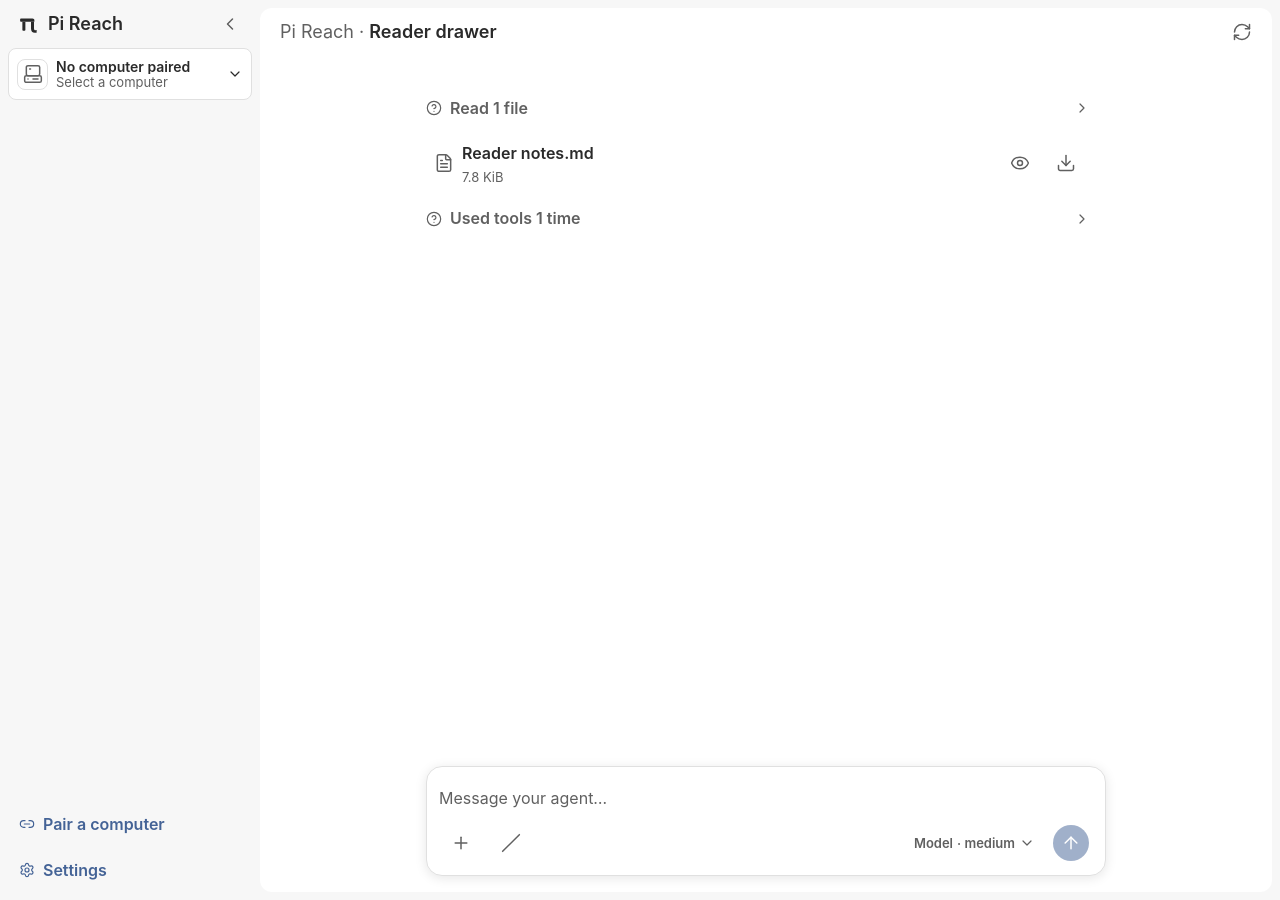
Test: desktop opens the reader as a 720px modal Drawer instead of a second column
Type "Draft before opening" into the text box with placeholder "Message your agent…".
click(766, 799); type("Draft before opening")  # box [439, 777, 1093, 821]
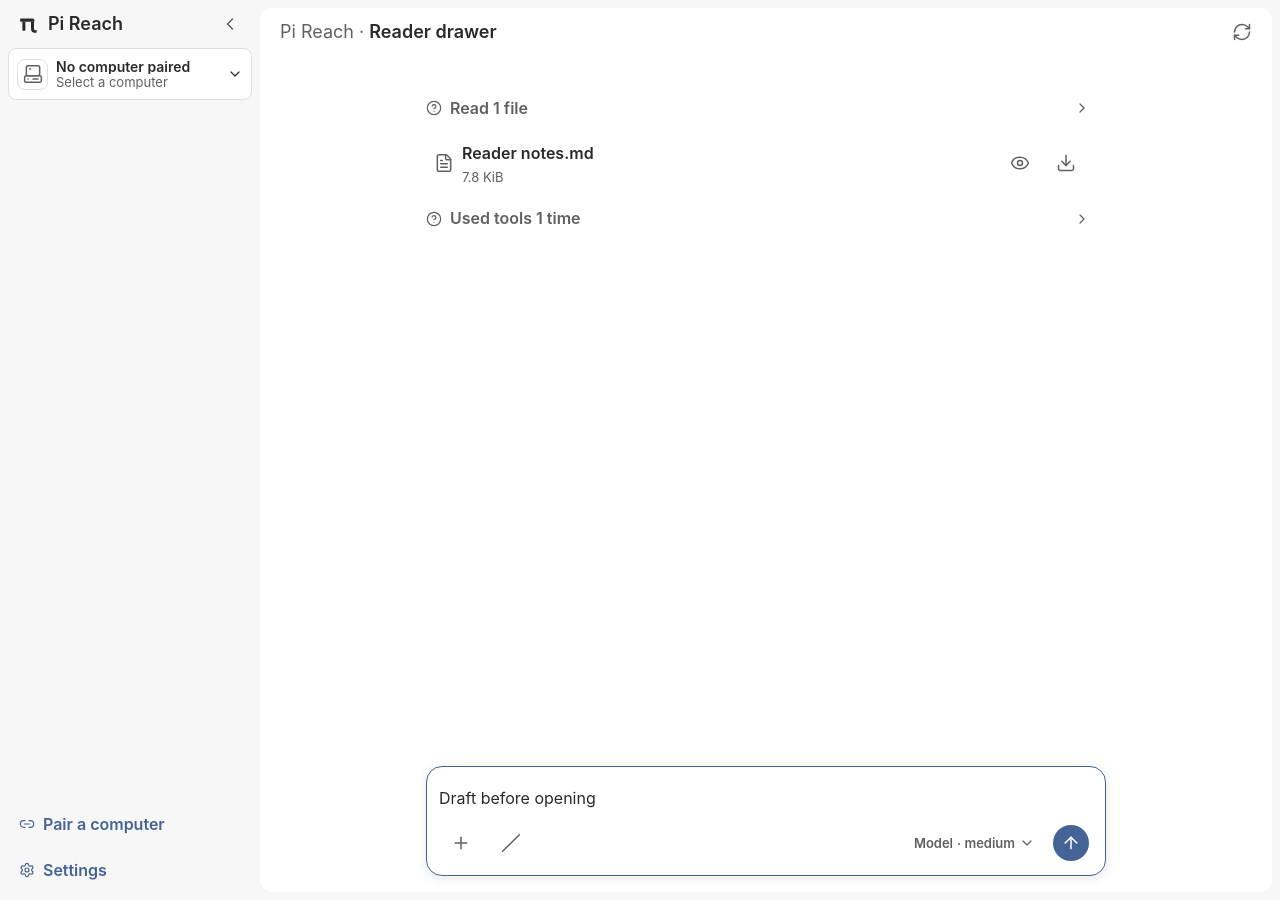
Click the button "Read 1 file".
click(489, 108)  # box [426, 86, 1096, 130]
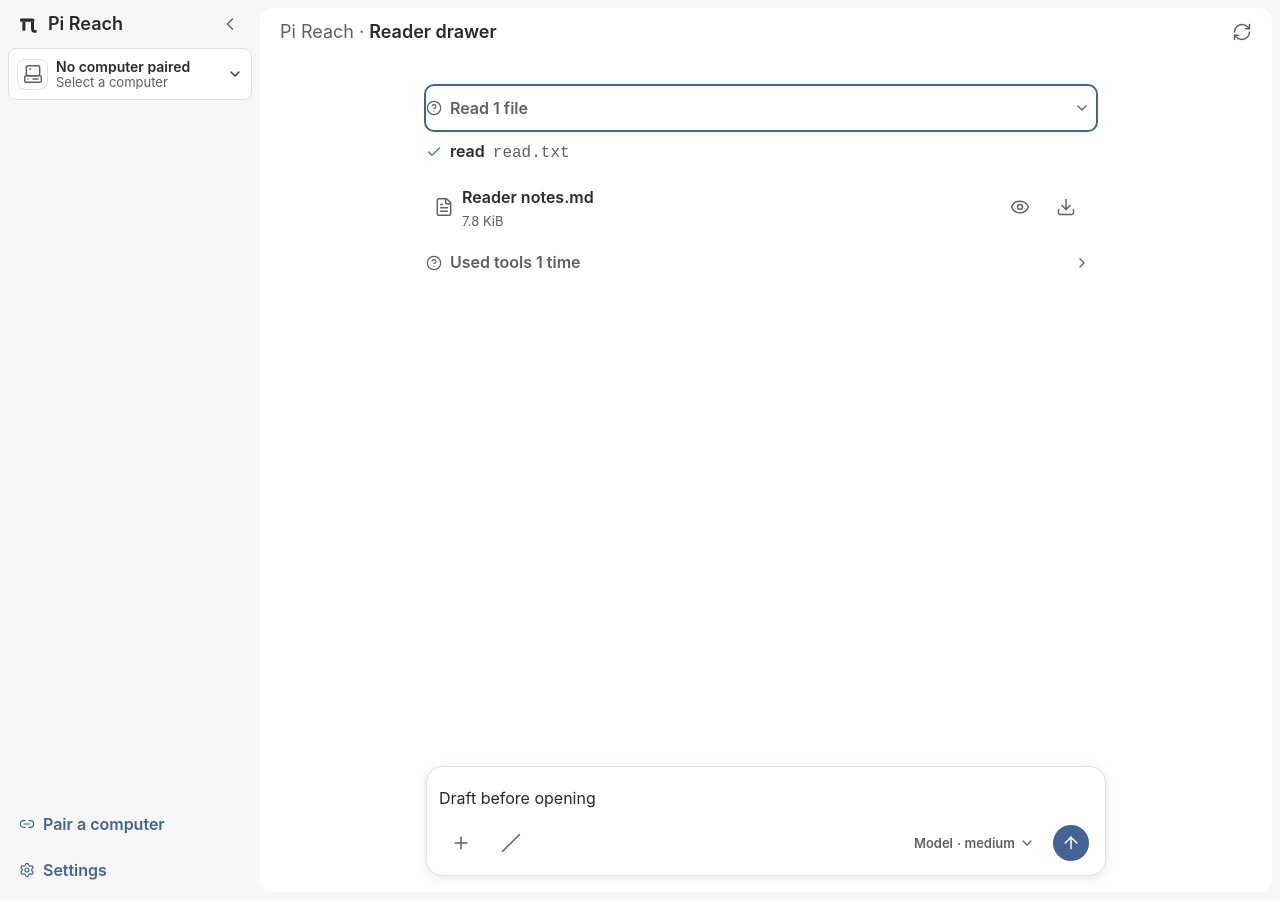
Click the button "Used tools 1 time".
click(515, 262)  # box [426, 241, 1096, 285]
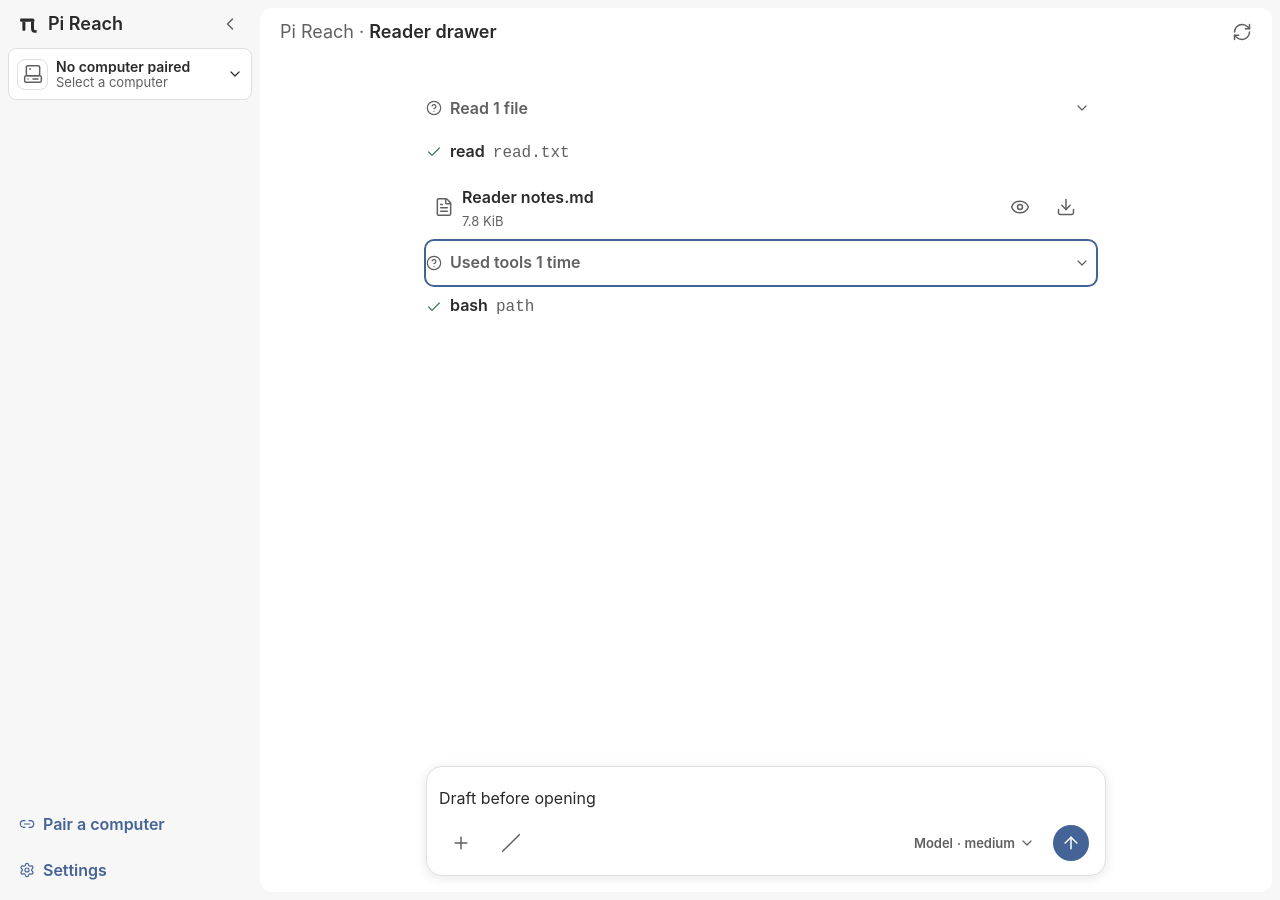
Click the button "read read.txt".
click(467, 151)  # box [426, 130, 1096, 174]
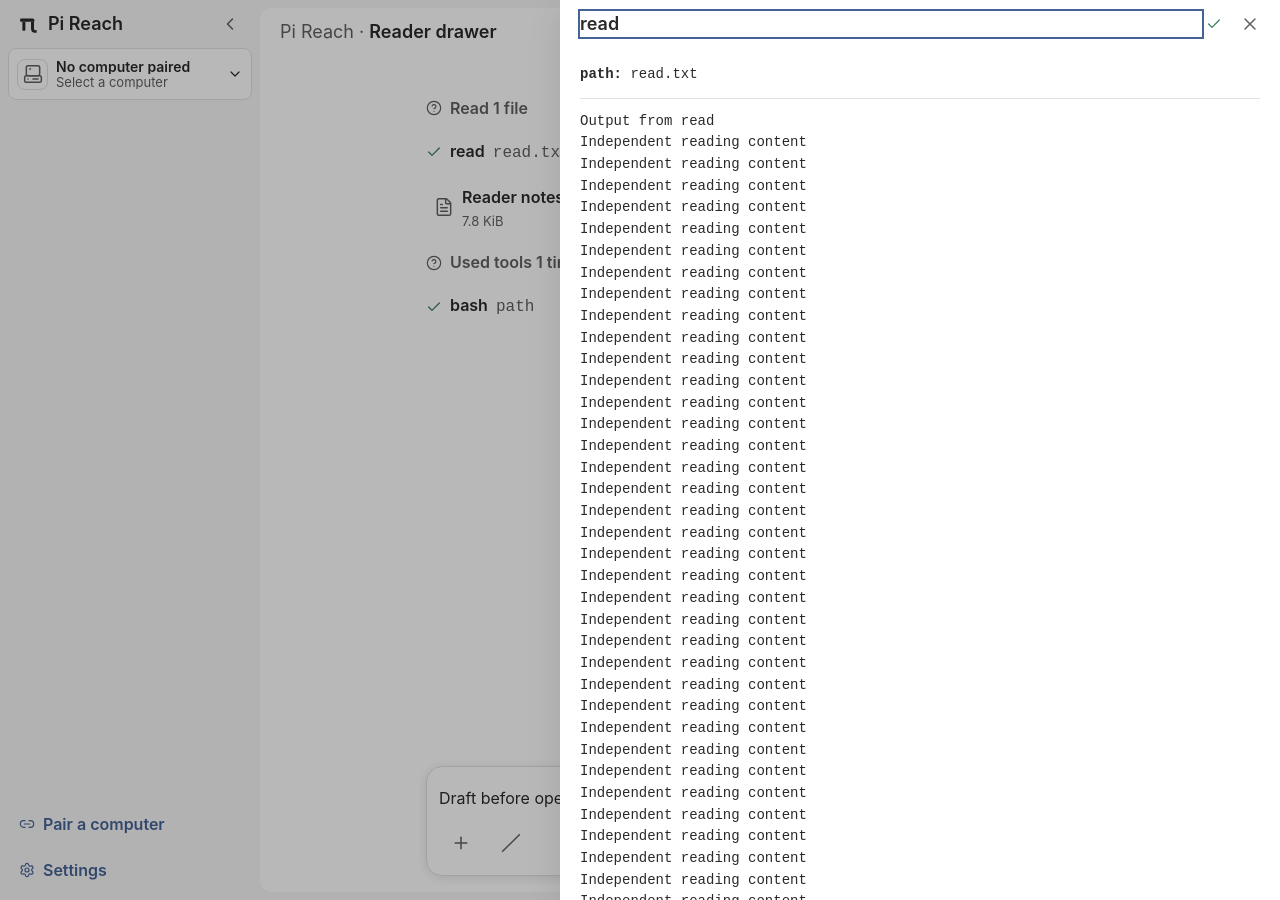
Expected: the element that starts with "path" is shown, [560, 48, 1279, 899]
Expected: the dialog is shown, [560, 0, 1279, 899]
Click the button named "Close tool details".
click(1250, 24)  # box [1228, 2, 1272, 46]
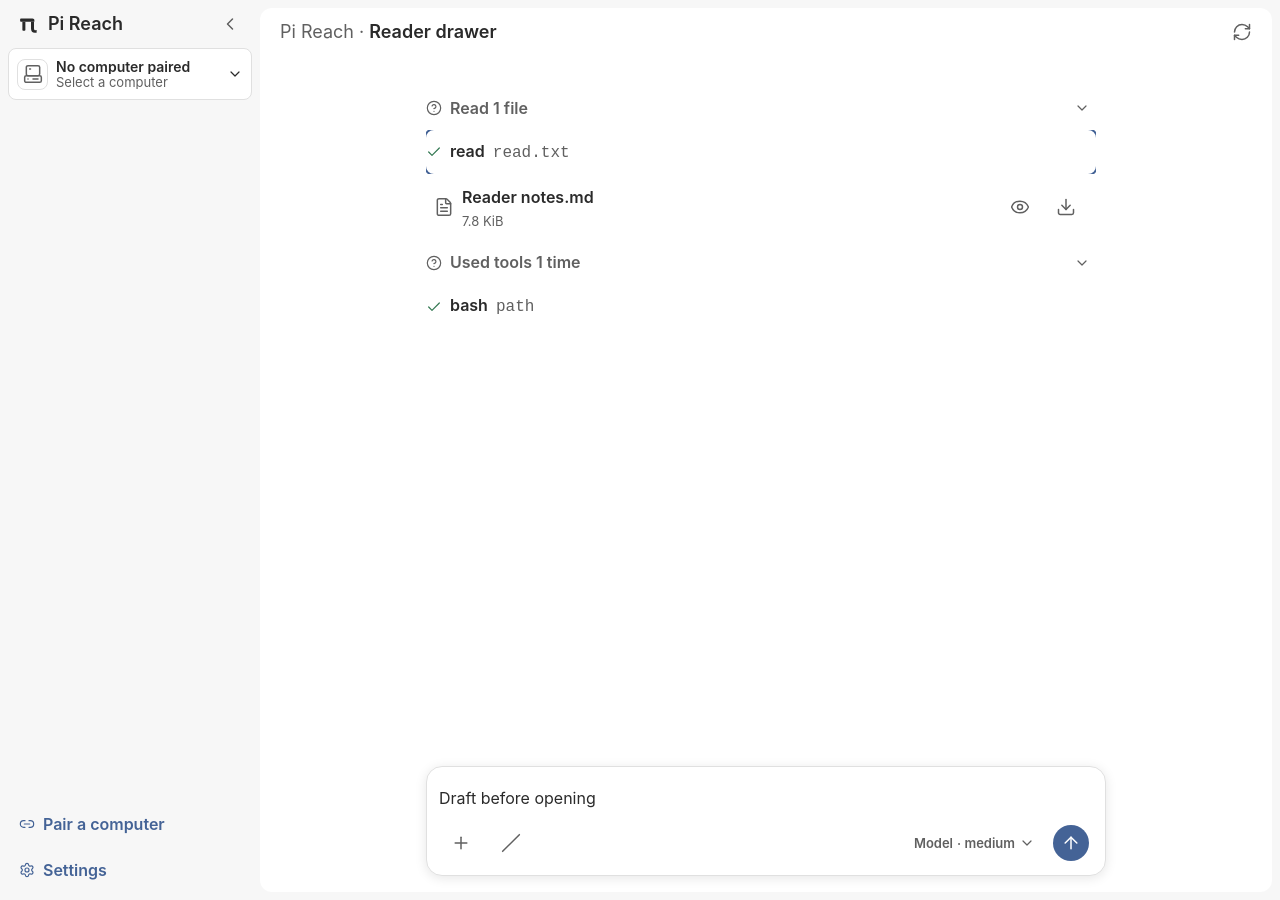
Expected: the dialog is gone
